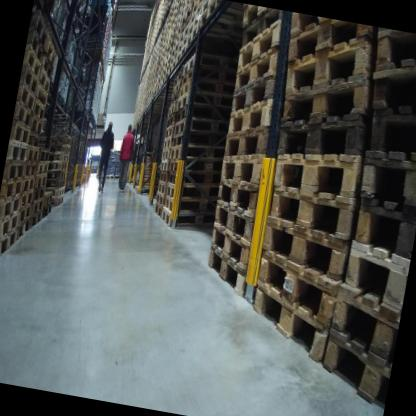pallet: (277, 19, 377, 114), (247, 241, 339, 333), (241, 276, 335, 365), (321, 284, 404, 371), (279, 65, 371, 143), (256, 207, 348, 284), (271, 137, 367, 210), (276, 95, 373, 167), (312, 328, 396, 411), (261, 177, 355, 249), (336, 238, 410, 321), (285, 17, 370, 78), (345, 194, 416, 265), (354, 138, 416, 215), (363, 49, 416, 127), (363, 101, 416, 165), (235, 15, 290, 75), (233, 39, 288, 95), (209, 171, 264, 226), (223, 91, 278, 145), (206, 198, 260, 253), (205, 219, 259, 274), (369, 29, 416, 88), (182, 50, 242, 96), (213, 147, 269, 196), (221, 120, 275, 165), (198, 0, 254, 41), (163, 175, 227, 210), (231, 68, 279, 114), (172, 113, 235, 148), (173, 85, 236, 119), (169, 124, 233, 157), (159, 200, 214, 237), (174, 101, 233, 134), (168, 136, 227, 168), (202, 252, 249, 291), (175, 76, 232, 108), (165, 150, 223, 180), (168, 163, 222, 192), (160, 195, 217, 222), (243, 7, 289, 39), (23, 28, 48, 66), (35, 128, 74, 152), (27, 9, 53, 44), (1, 156, 27, 191), (0, 187, 23, 226), (0, 175, 26, 209), (19, 60, 42, 96), (12, 98, 37, 130), (5, 135, 30, 167), (22, 44, 44, 80), (0, 204, 20, 243), (0, 228, 20, 265), (239, 5, 270, 28), (35, 139, 71, 158), (11, 115, 34, 144), (42, 34, 61, 69), (186, 22, 207, 52), (16, 78, 36, 109), (19, 185, 37, 216), (36, 66, 54, 96), (30, 179, 48, 208), (14, 215, 32, 243), (37, 56, 55, 83), (21, 159, 41, 182), (17, 202, 34, 228), (34, 83, 51, 109), (24, 143, 42, 167), (26, 131, 44, 153), (187, 11, 202, 37), (47, 150, 71, 166), (169, 67, 185, 90), (34, 154, 50, 177), (20, 173, 38, 193), (32, 99, 47, 123), (36, 145, 53, 166), (44, 168, 66, 184), (188, 3, 204, 25), (180, 1, 194, 26), (29, 207, 44, 230), (29, 114, 45, 135), (163, 108, 178, 130), (45, 160, 67, 175), (30, 196, 46, 216), (33, 172, 49, 192), (176, 30, 189, 54), (166, 57, 179, 81), (47, 194, 66, 209), (172, 25, 183, 50), (48, 186, 65, 202), (176, 42, 188, 64), (167, 95, 180, 115), (37, 0, 57, 13), (42, 199, 53, 222), (167, 49, 177, 74), (152, 198, 165, 217), (46, 177, 65, 190), (42, 187, 53, 209), (171, 80, 183, 100), (201, 0, 216, 16), (180, 12, 192, 32), (163, 125, 176, 143), (170, 39, 181, 60), (157, 154, 170, 171), (160, 134, 173, 150), (164, 47, 175, 65), (192, 0, 205, 15), (155, 180, 167, 196), (173, 11, 185, 27), (179, 24, 189, 42), (170, 4, 179, 24), (162, 63, 170, 81), (157, 170, 167, 184), (173, 26, 181, 43), (166, 41, 175, 56), (104, 171, 115, 183), (154, 189, 164, 201), (178, 2, 186, 17), (172, 0, 181, 13), (111, 174, 124, 183), (162, 73, 170, 87), (159, 145, 170, 155), (182, 0, 192, 11), (164, 58, 171, 72), (167, 32, 174, 46), (170, 15, 177, 29), (96, 172, 106, 180), (169, 25, 175, 38), (179, 0, 185, 7), (184, 0, 192, 4), (174, 0, 181, 4)
